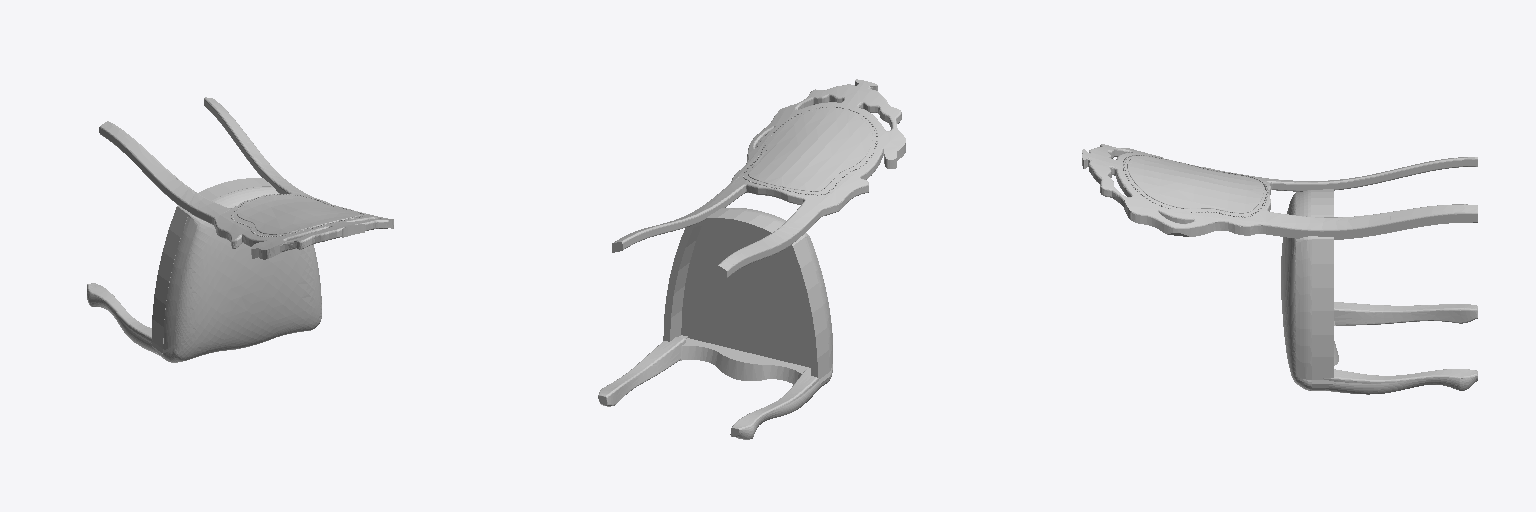
The model's file is chair_0187_QEM_50pct.obj.
The picture shows the model from 3 angles: view 1: azimuth 30°, elevation 25°; view 2: azimuth 150°, elevation 25°; view 3: azimuth 270°, elevation 25°; orthographic projection.
Size of the model in its own units: 0.4595 by 0.5714 by 1.